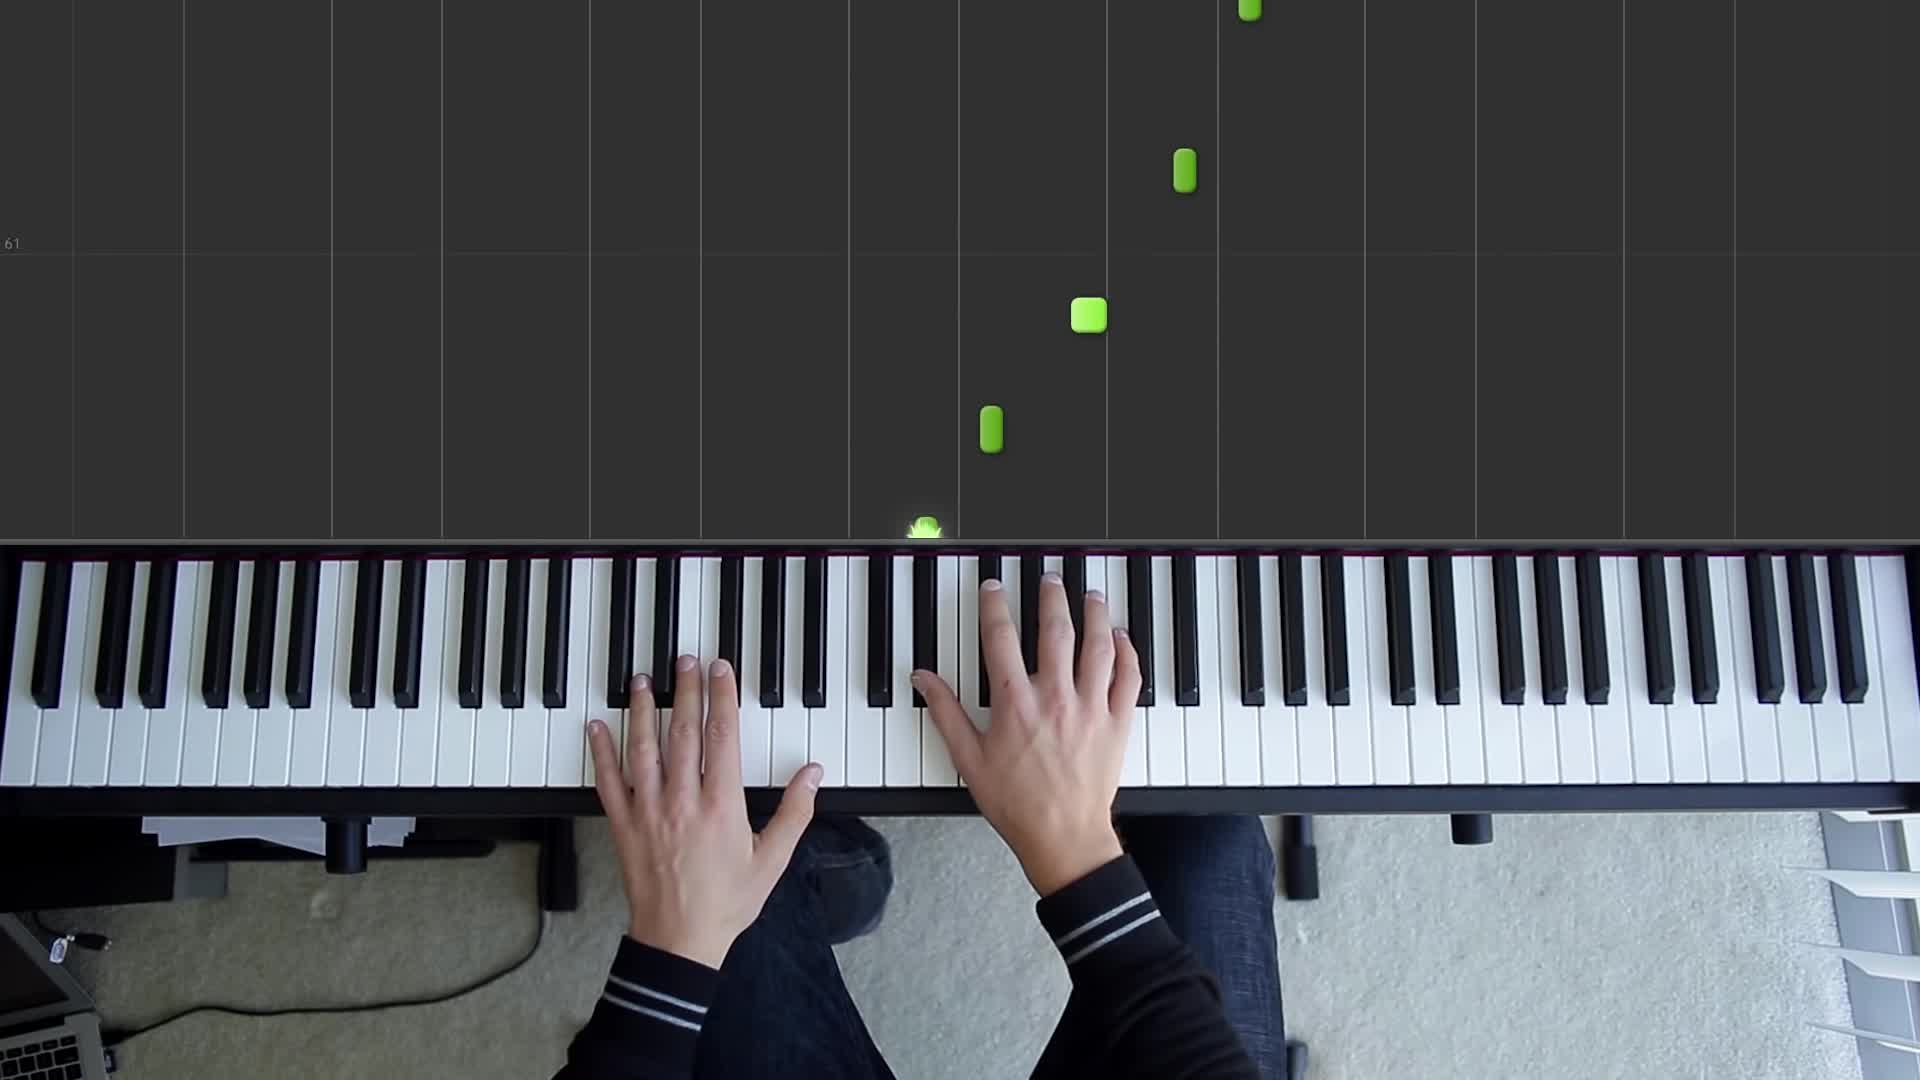left: (588, 657, 827, 924)
right: (913, 567, 1143, 824)
